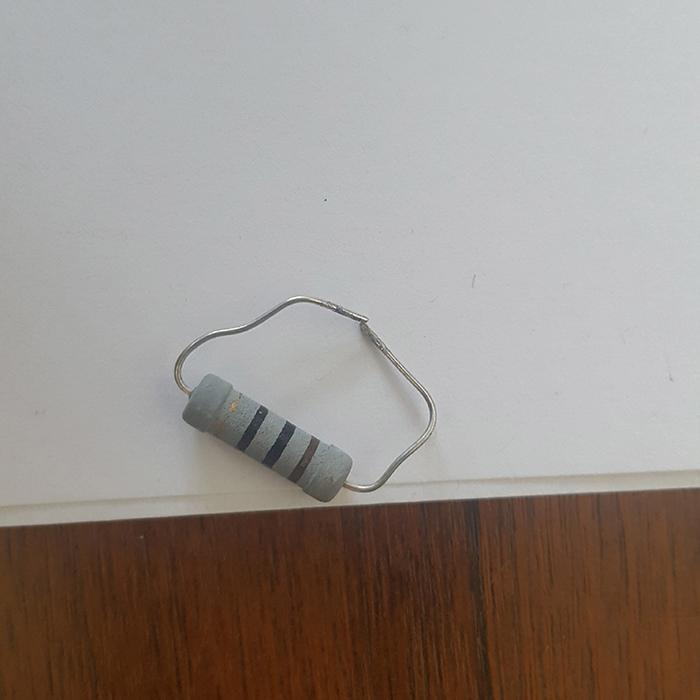resistor: (180, 372, 352, 500)
